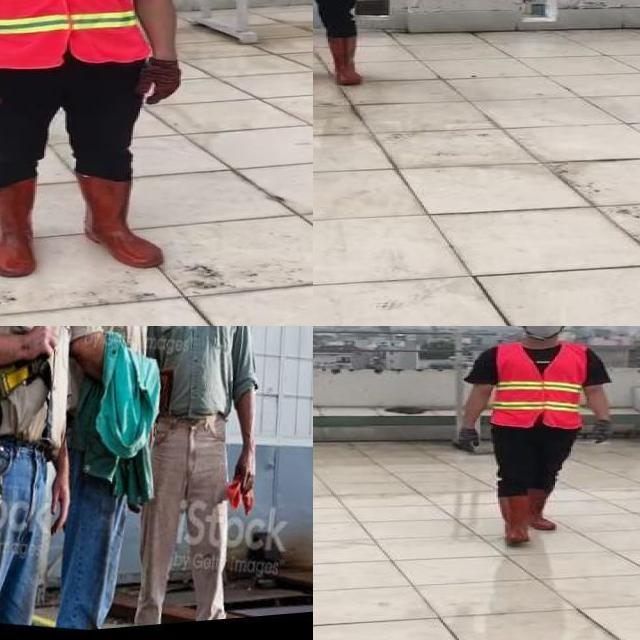Harness: (0, 326, 57, 406)
boots: (76, 172, 165, 267), (0, 176, 38, 276), (325, 34, 367, 84), (496, 495, 532, 544), (530, 492, 559, 532)
face_mask: (520, 326, 566, 338)
hand_glove: (452, 428, 478, 453), (594, 420, 612, 444)
person: (0, 0, 203, 277), (451, 326, 613, 546)
vest: (0, 0, 145, 67), (495, 341, 587, 430)
